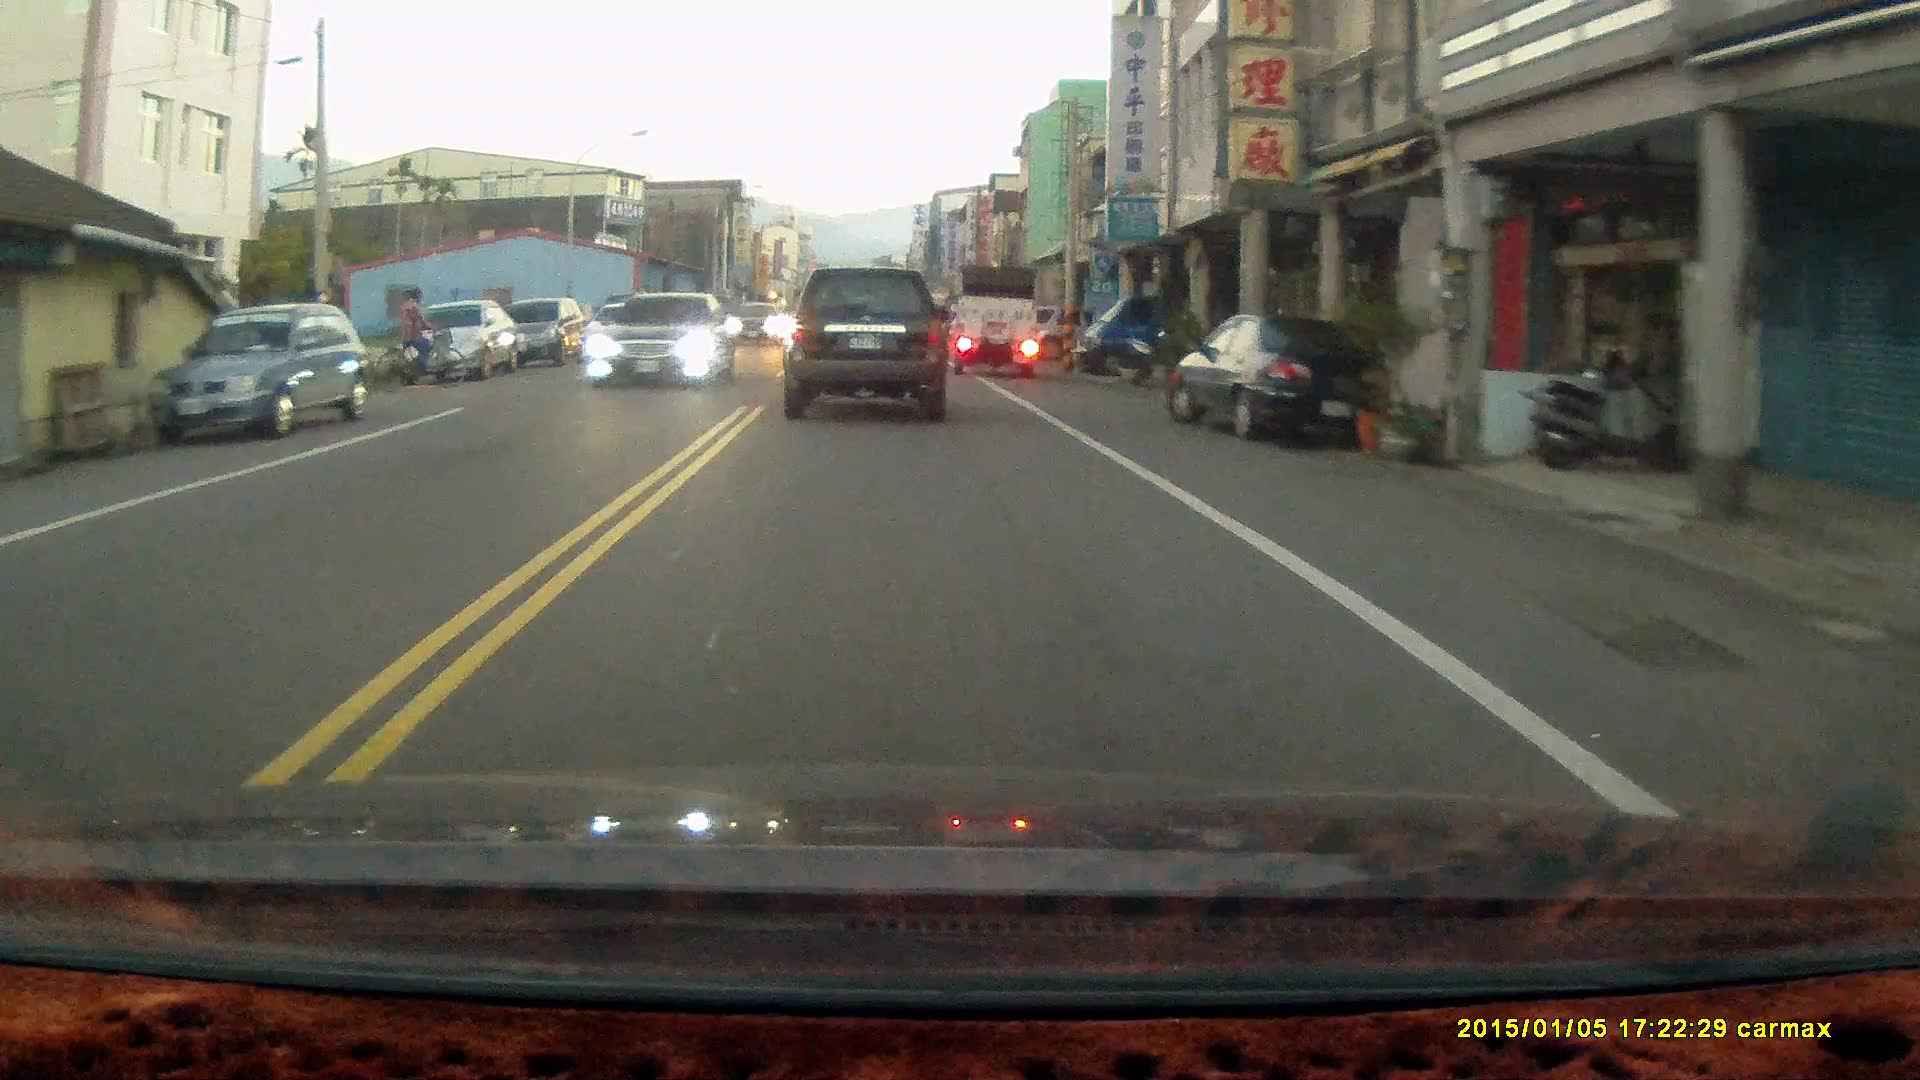rider: (367, 282, 469, 385)
vehicle: (154, 302, 373, 440), (1172, 310, 1389, 440), (788, 268, 956, 425), (585, 291, 732, 394), (1073, 278, 1218, 378), (950, 258, 1040, 373), (398, 294, 521, 378), (496, 297, 586, 367)
